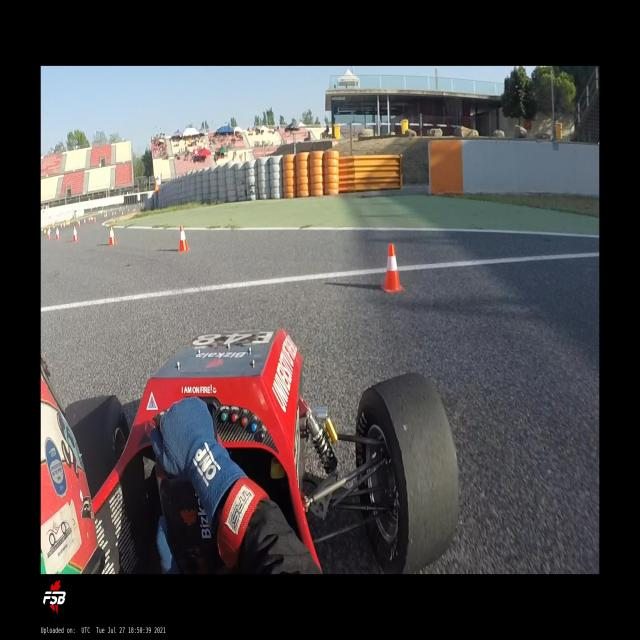orange_cone: (381, 244, 404, 292), (178, 225, 190, 252), (108, 226, 116, 246), (73, 225, 78, 242), (55, 226, 60, 240), (47, 228, 51, 240)
